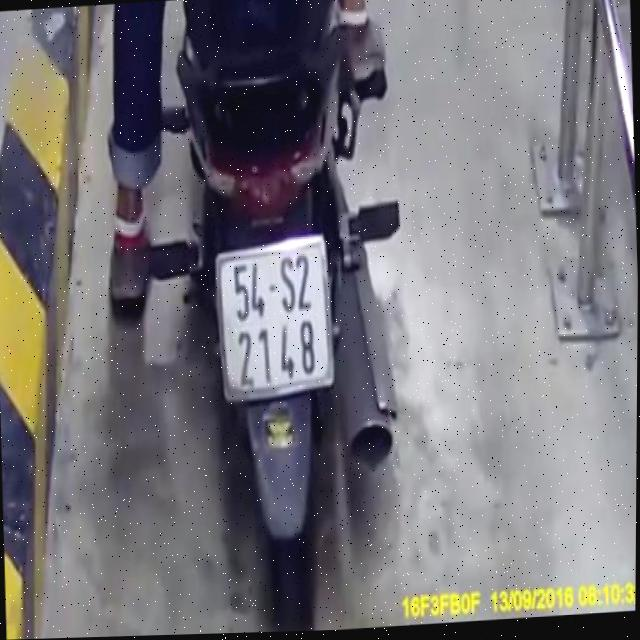motorcycle: (144, 0, 422, 636)
plate: (204, 227, 340, 403)
